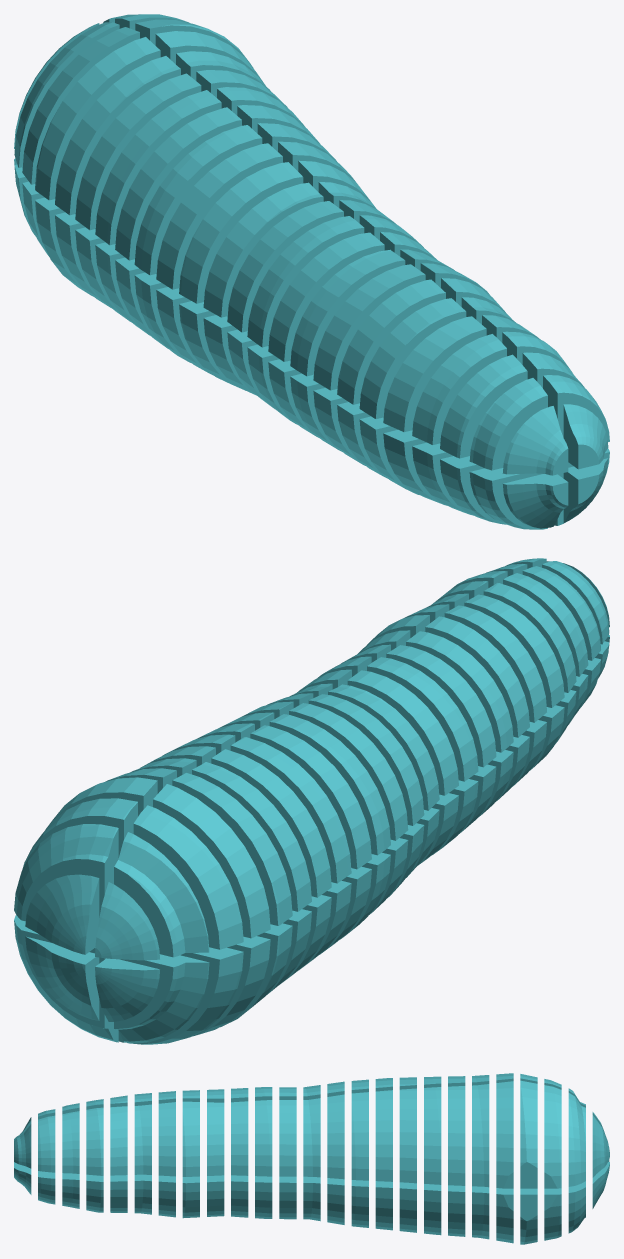
File: vb_pancreas.fbx
3 renders of one model, top to bottom at view 1: azimuth 30°, elevation 25°; view 2: azimuth 150°, elevation 25°; view 3: azimuth 270°, elevation 25°, orthographic. The views are drawn at different scales.
Parts seen in each view (by area): view 1: vb_pancreas_top, vb_pancreas_bot; view 2: vb_pancreas_top, vb_pancreas_bot; view 3: vb_pancreas_top, vb_pancreas_bot.
Part boxes in pixels (bbox=[...]): vb_pancreas_top: bbox=[14, 14, 609, 475]; vb_pancreas_bot: bbox=[14, 158, 609, 529]; vb_pancreas_top: bbox=[14, 558, 609, 960]; vb_pancreas_bot: bbox=[14, 635, 609, 1044]; vb_pancreas_top: bbox=[14, 1073, 609, 1188]; vb_pancreas_bot: bbox=[14, 1160, 609, 1244].
Size of the model in its own units: 4.8 by 5.13 by 17.7.
